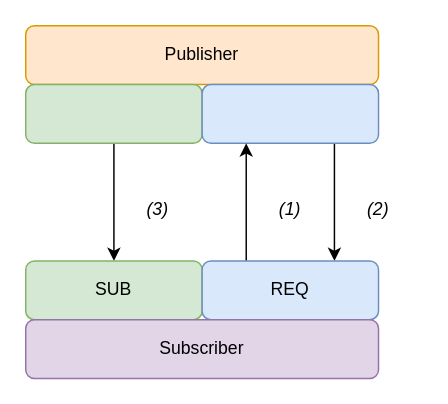
This 448x404 diagram has some shape labels left out. Each missing label, with the centre of its shape:
"PUB" goes at point 113,113.
"REP" goes at point 290,113.
